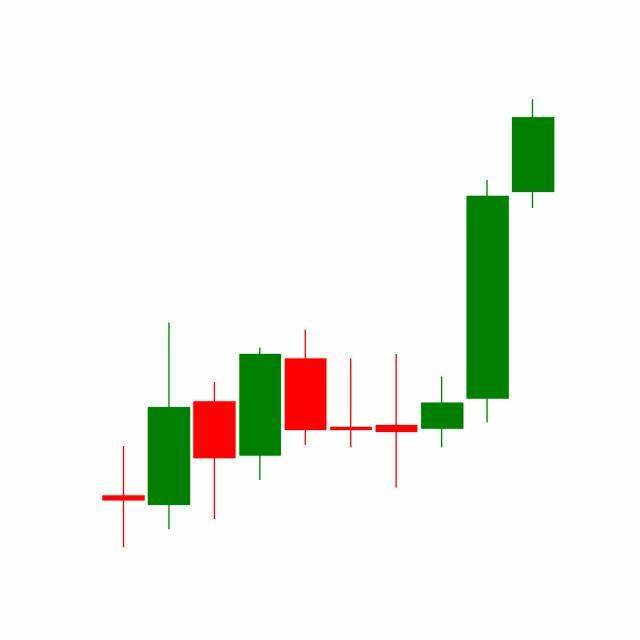Hikkake Pattern: (283, 176, 512, 492)
